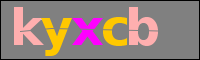b: (128, 6, 160, 47)
c: (102, 16, 128, 47)
k: (11, 4, 45, 47)
x: (71, 16, 103, 45)
y: (42, 15, 73, 59)
